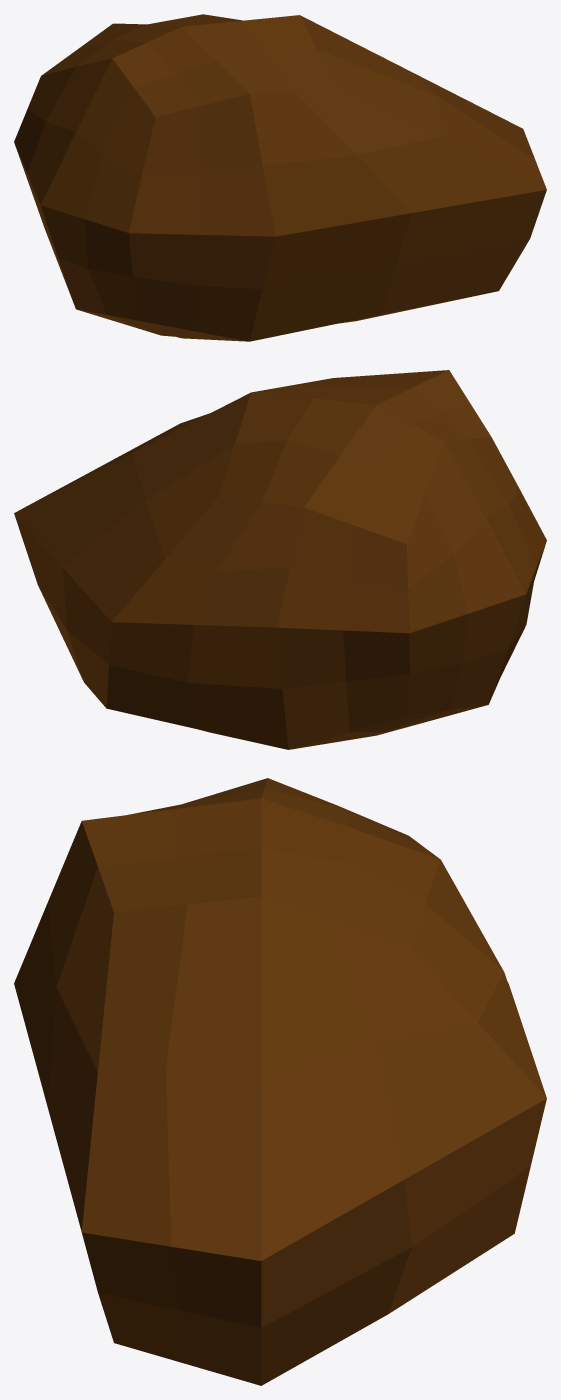
Rendered from asteroid_3.fbx.
3 renders of one model, top to bottom at view 1: azimuth 30°, elevation 25°; view 2: azimuth 150°, elevation 25°; view 3: azimuth 270°, elevation 25°, orthographic. The views are drawn at different scales.
Parts seen in each view (by area): view 1: Asteroid_02; view 2: Asteroid_02; view 3: Asteroid_02.
Part boxes in pixels (left/top/right/bottom): Asteroid_02: left=14, top=14, right=546, bottom=341; Asteroid_02: left=14, top=370, right=546, bottom=749; Asteroid_02: left=14, top=778, right=546, bottom=1385.
Bounding box in the file's own units: 1422 × 877 × 1035.
